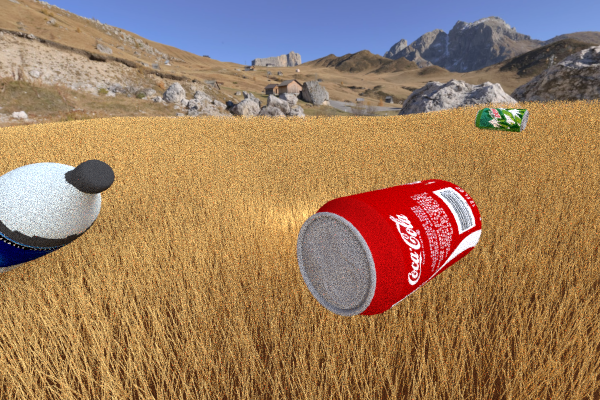bottle: (0, 159, 114, 280)
can: (296, 179, 481, 316), (474, 107, 529, 132)
